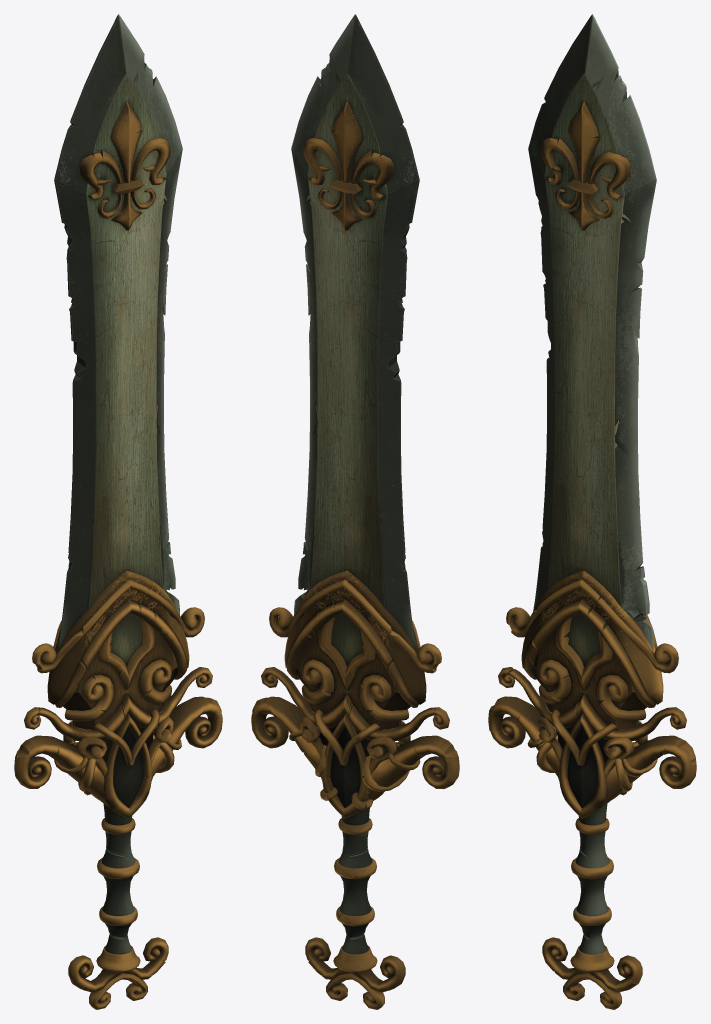
Rendered from sm_sword_151.gltf.
3 views of the same model, side by side, from view 1: azimuth 30°, elevation 25°; view 2: azimuth 150°, elevation 25°; view 3: azimuth 330°, elevation 25° (orthographic).
Parts seen in each view (by area): view 1: sm_sword_151; view 2: sm_sword_151; view 3: sm_sword_151.
Part boxes in pixels (x1,y1,x2,y2): sm_sword_151: (14, 14, 222, 1009); sm_sword_151: (251, 14, 459, 1009); sm_sword_151: (488, 14, 696, 1009).
Size of the model in its own units: 0.3335 by 1.52 by 0.0906.
Materials: 1 (1 with a texture image).
